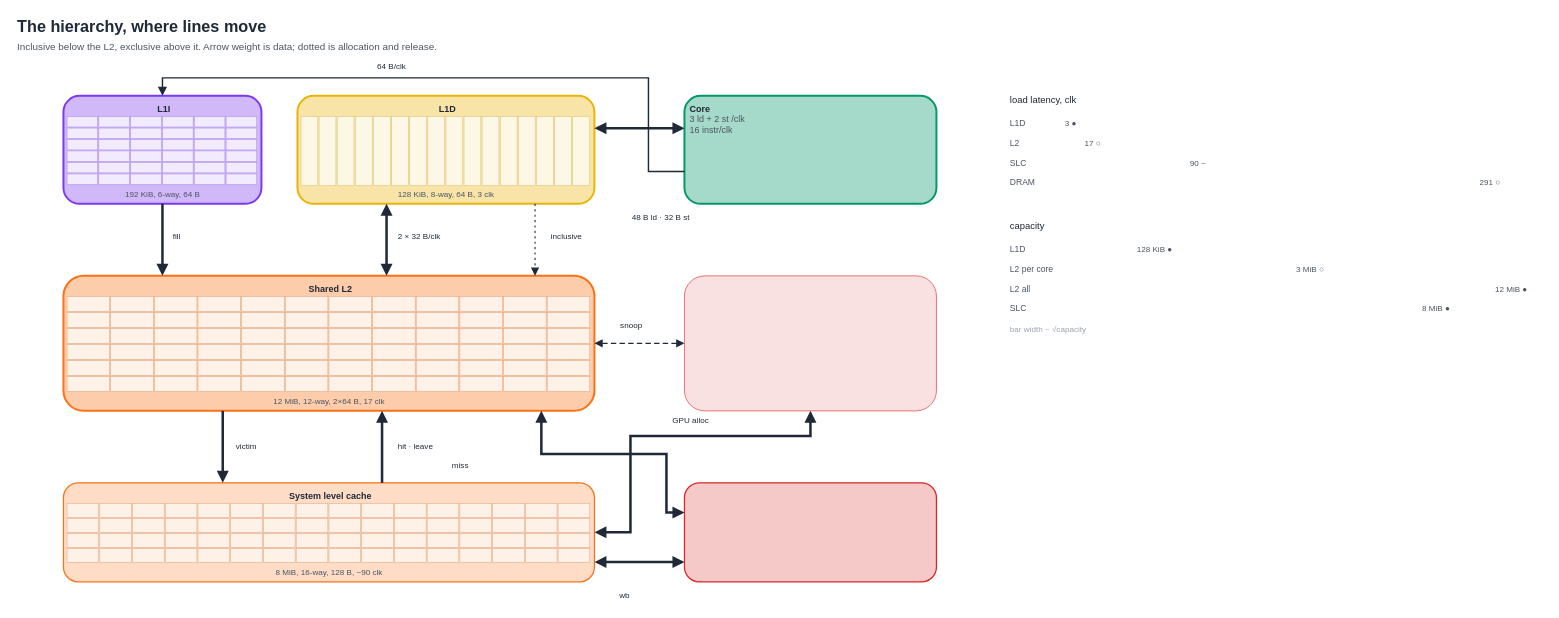
Image size: 1559x618. Some labels were removed from this diagram. Here are the shapes that lost their labels. From the top down, the box of each, then its label:
(684, 275, 936, 411): Other clients E-cluster L2 GPU → SLC coh: dup L2 tags
(683, 482, 937, 582): DRAM LPDDR4X, 8 ch 91 ns ≈ 290 clk 68 GB/s
